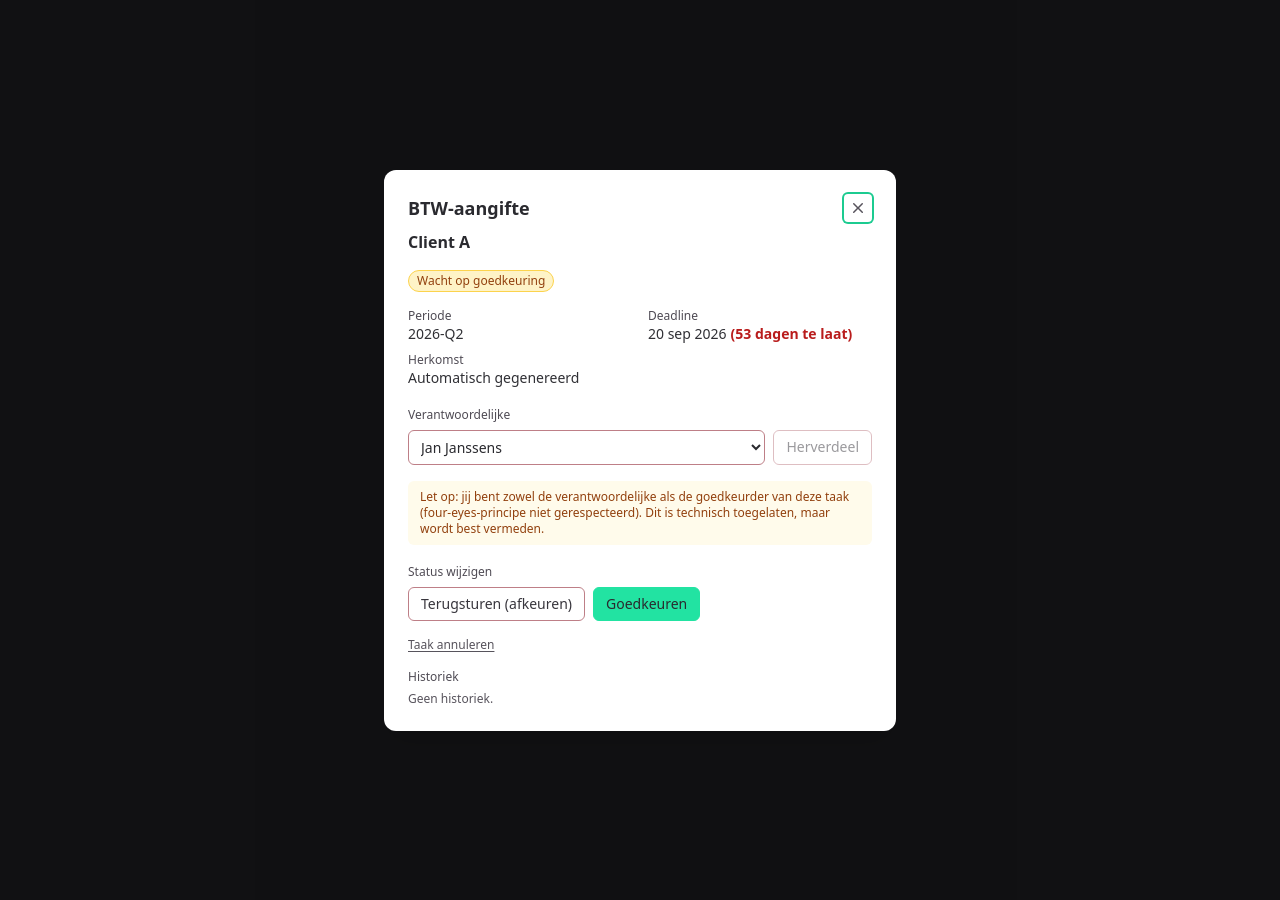
Scenario: TaskDetailModal — status change error handling › shows an error and keeps the modal open when onStatusChange rejects
This screenshot has width=1280, height=900.
Step 1. Click the button "Goedkeuren" → (647, 604), box 593,586 -> 700,620
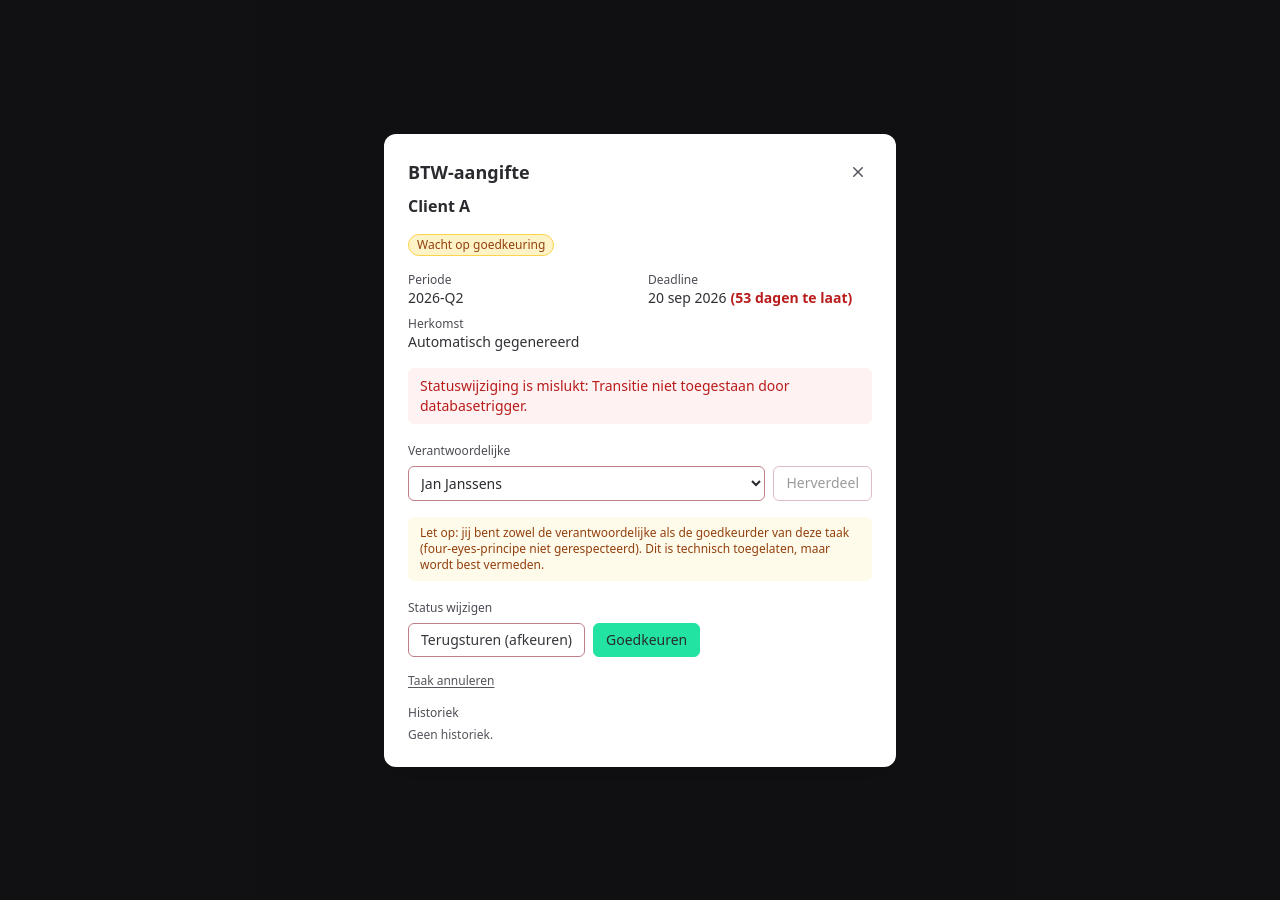
Expected: the message shows "Transitie niet toegestaan door databasetrigger.", 420,376 -> 790,414
